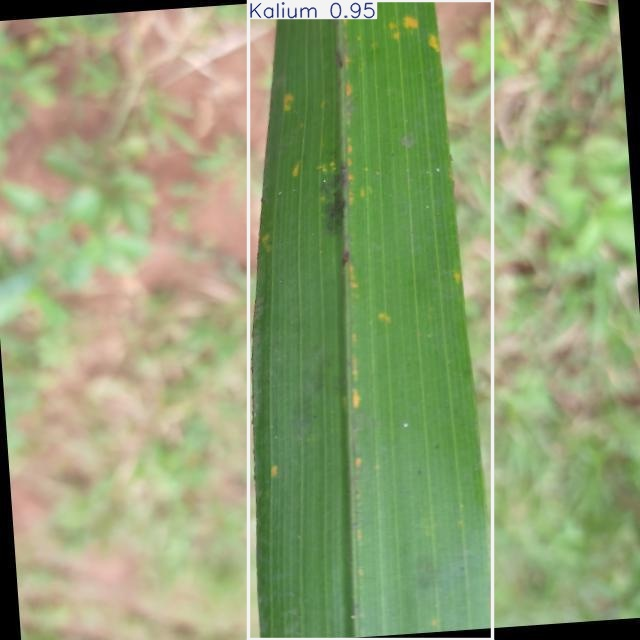Kalium: (249, 0, 493, 640)
